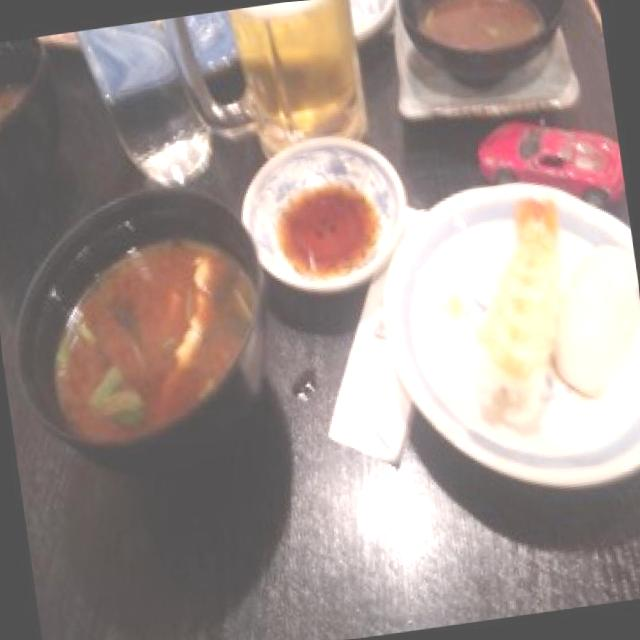Sushi: (457, 186, 640, 407)
